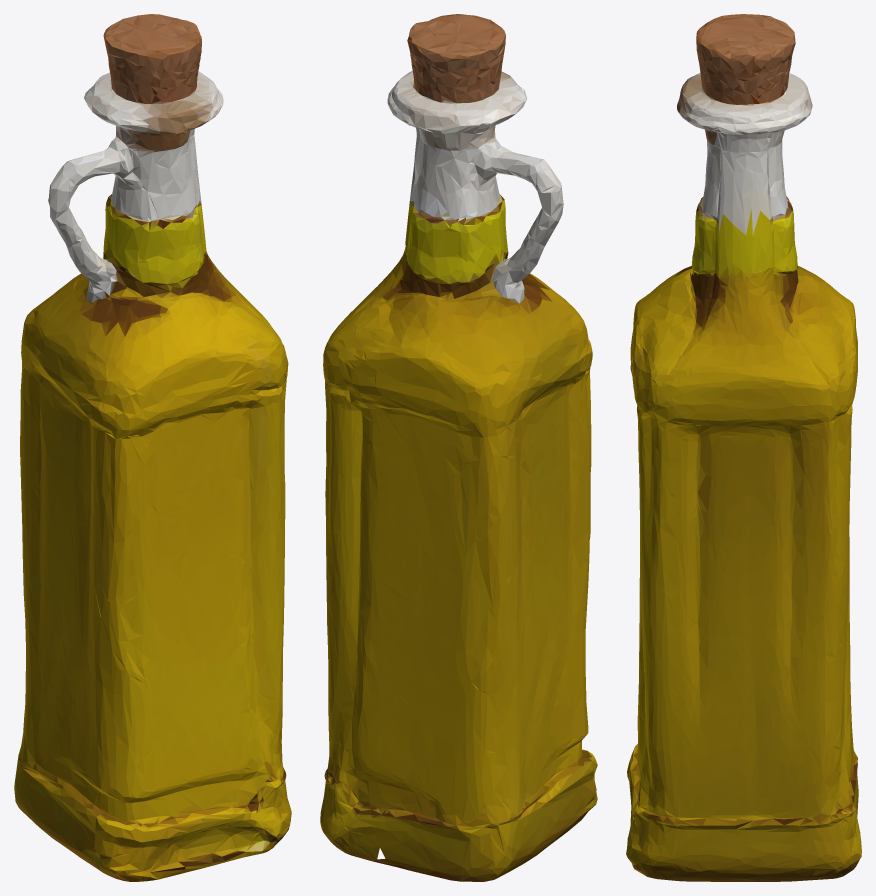
Rendered from oil.glb.
3 renders of one model, left to right at view 1: azimuth 30°, elevation 25°; view 2: azimuth 150°, elevation 25°; view 3: azimuth 270°, elevation 25°, orthographic.
Visible parts, largest first — view 1: geometry_0; view 2: geometry_0; view 3: geometry_0.
Boxes of the visible parts, x1,y1,x2,y2 form: geometry_0: (14, 14, 291, 881); geometry_0: (320, 14, 597, 881); geometry_0: (626, 14, 861, 881).
Bounding box in the file's own units: 0.0636 × 0.24 × 0.0633.
Materials: 1 (1 with a texture image).
